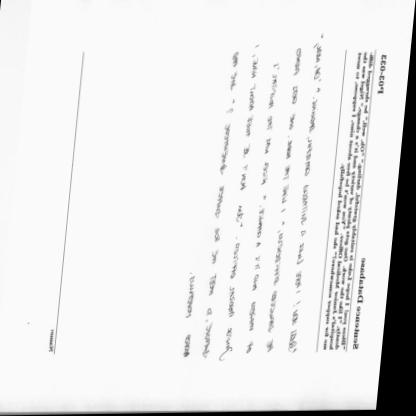Handwritten text: (287, 44, 333, 366), (221, 55, 265, 371), (265, 45, 307, 361), (244, 52, 286, 368), (203, 47, 242, 358), (182, 273, 206, 366)
